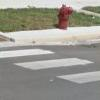Crosswalk: (7, 39, 92, 93)
